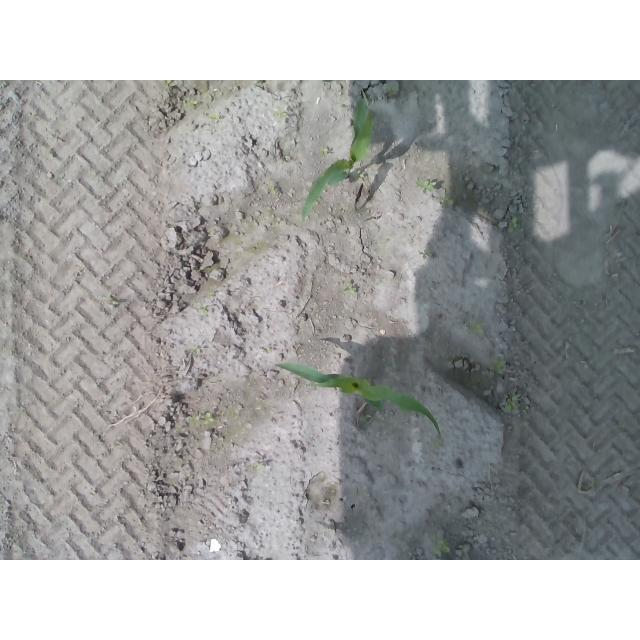Maize: (274, 360, 443, 441), (299, 96, 375, 223)
Weeds: (431, 535, 449, 558), (502, 394, 522, 414), (191, 412, 215, 426), (415, 179, 438, 193), (493, 360, 507, 377), (473, 322, 487, 338), (507, 217, 520, 232), (273, 106, 287, 119), (346, 281, 358, 296), (183, 98, 197, 110), (383, 84, 397, 96), (207, 113, 221, 124), (317, 147, 327, 158), (165, 80, 176, 88), (200, 308, 209, 316)
